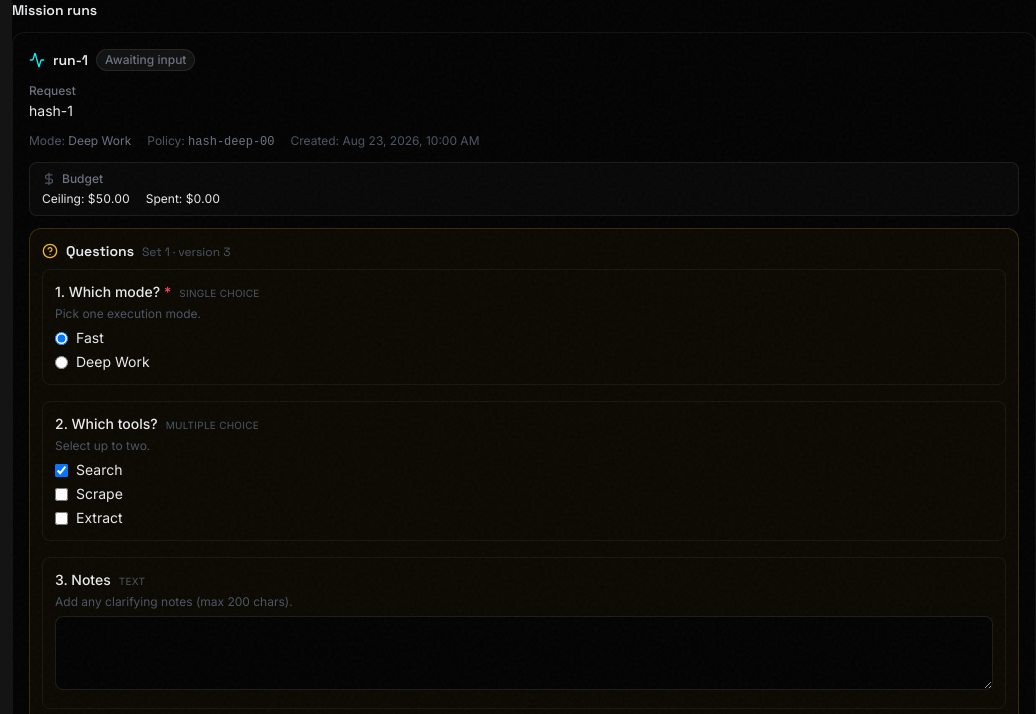
Test: VAL-CROSS-011: question validation is atomic › maps a server 422 ANSWER_VALIDATION_FAILED to field-level errors and preserves the set open
# Fill all required questions.
Click the radio button labelled "Deep Work" at (62, 362), box [55,356,68,368]
(page scrolled)
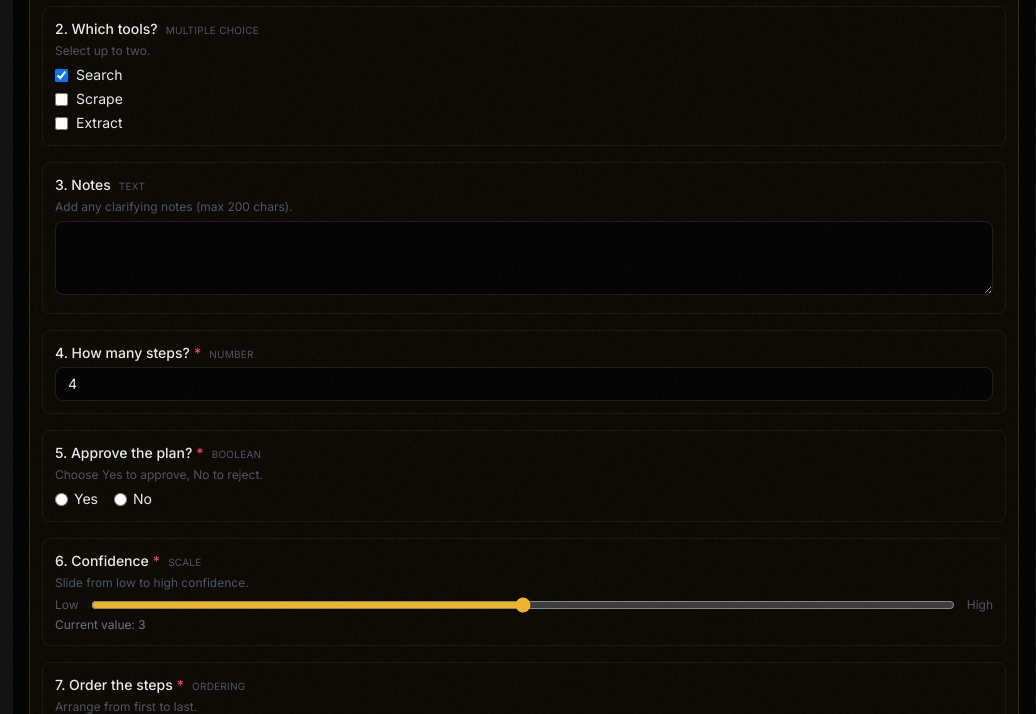
Replace the text in the number field named "How many steps?" with "6" at (524, 384), box [55,367,993,401]
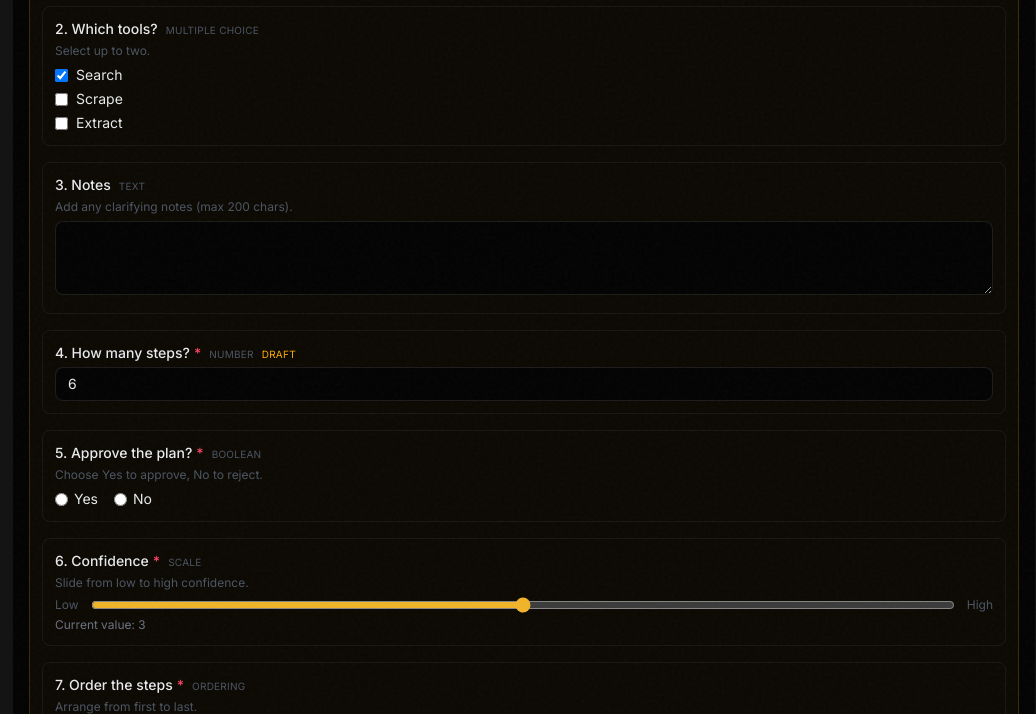
Click the radio button labelled "Yes" at (62, 499), box [55,492,68,506]
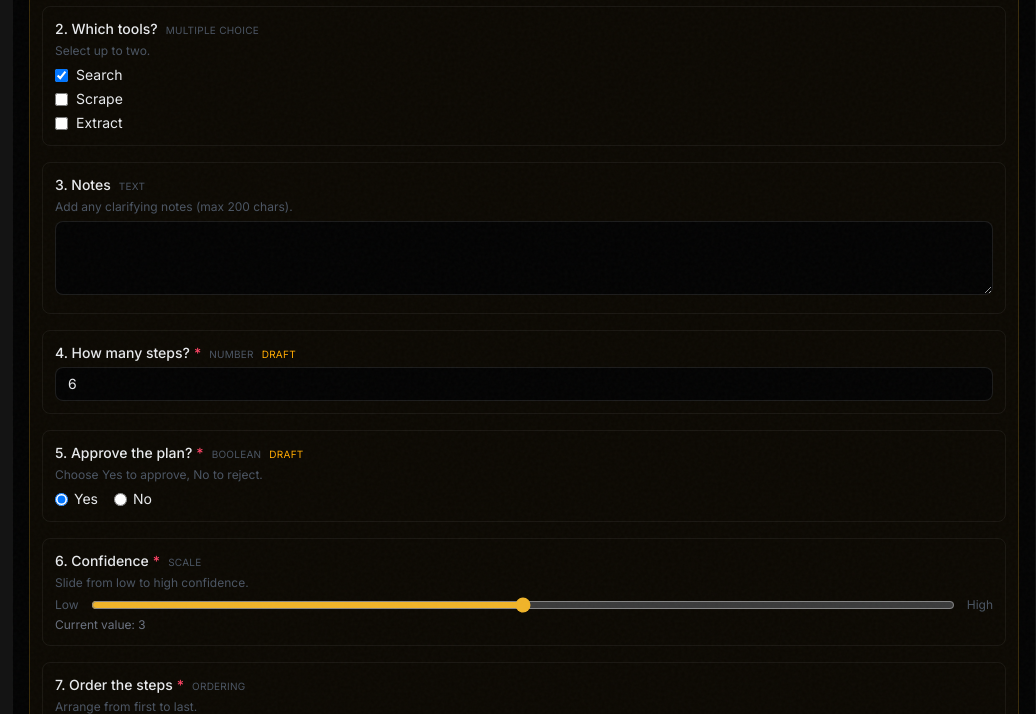
Set the slider named "Confidence" to "5" at (947, 605), box [91,597,955,613]
(page scrolled)
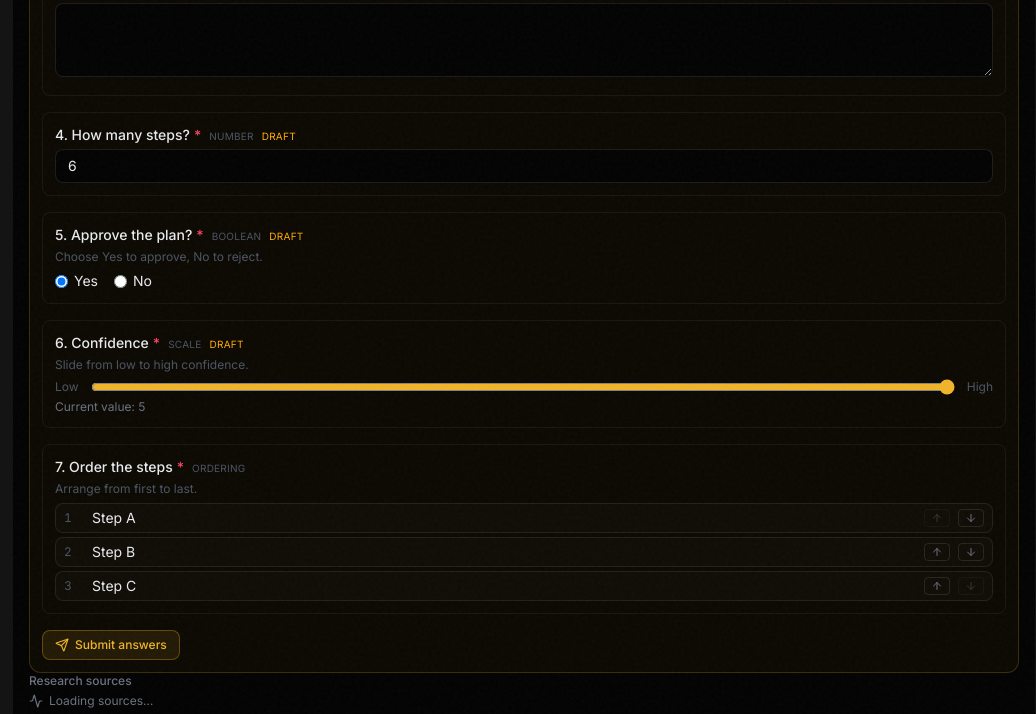
# Submit — the server rejects with a field-level validation error.
Click the button "Submit answers" at (111, 645), box [42,630,180,660]
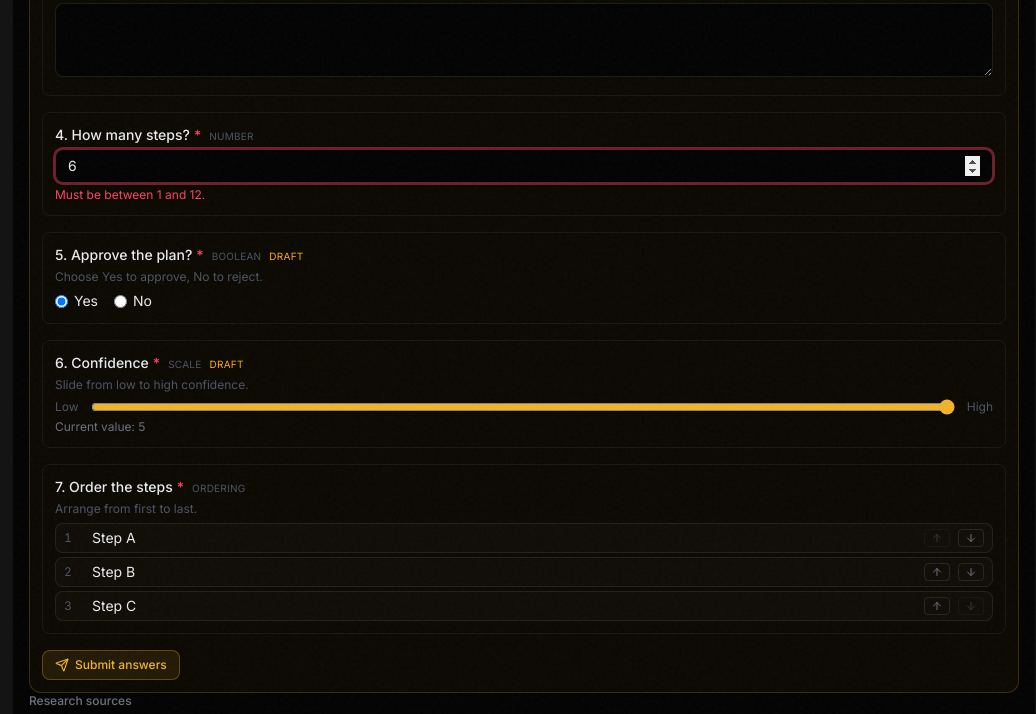
Expected: the button "Submit answers" is shown, [42,650,180,680]
Result: the text "Must be between 1 and 12." is shown at [55,187,205,202]
